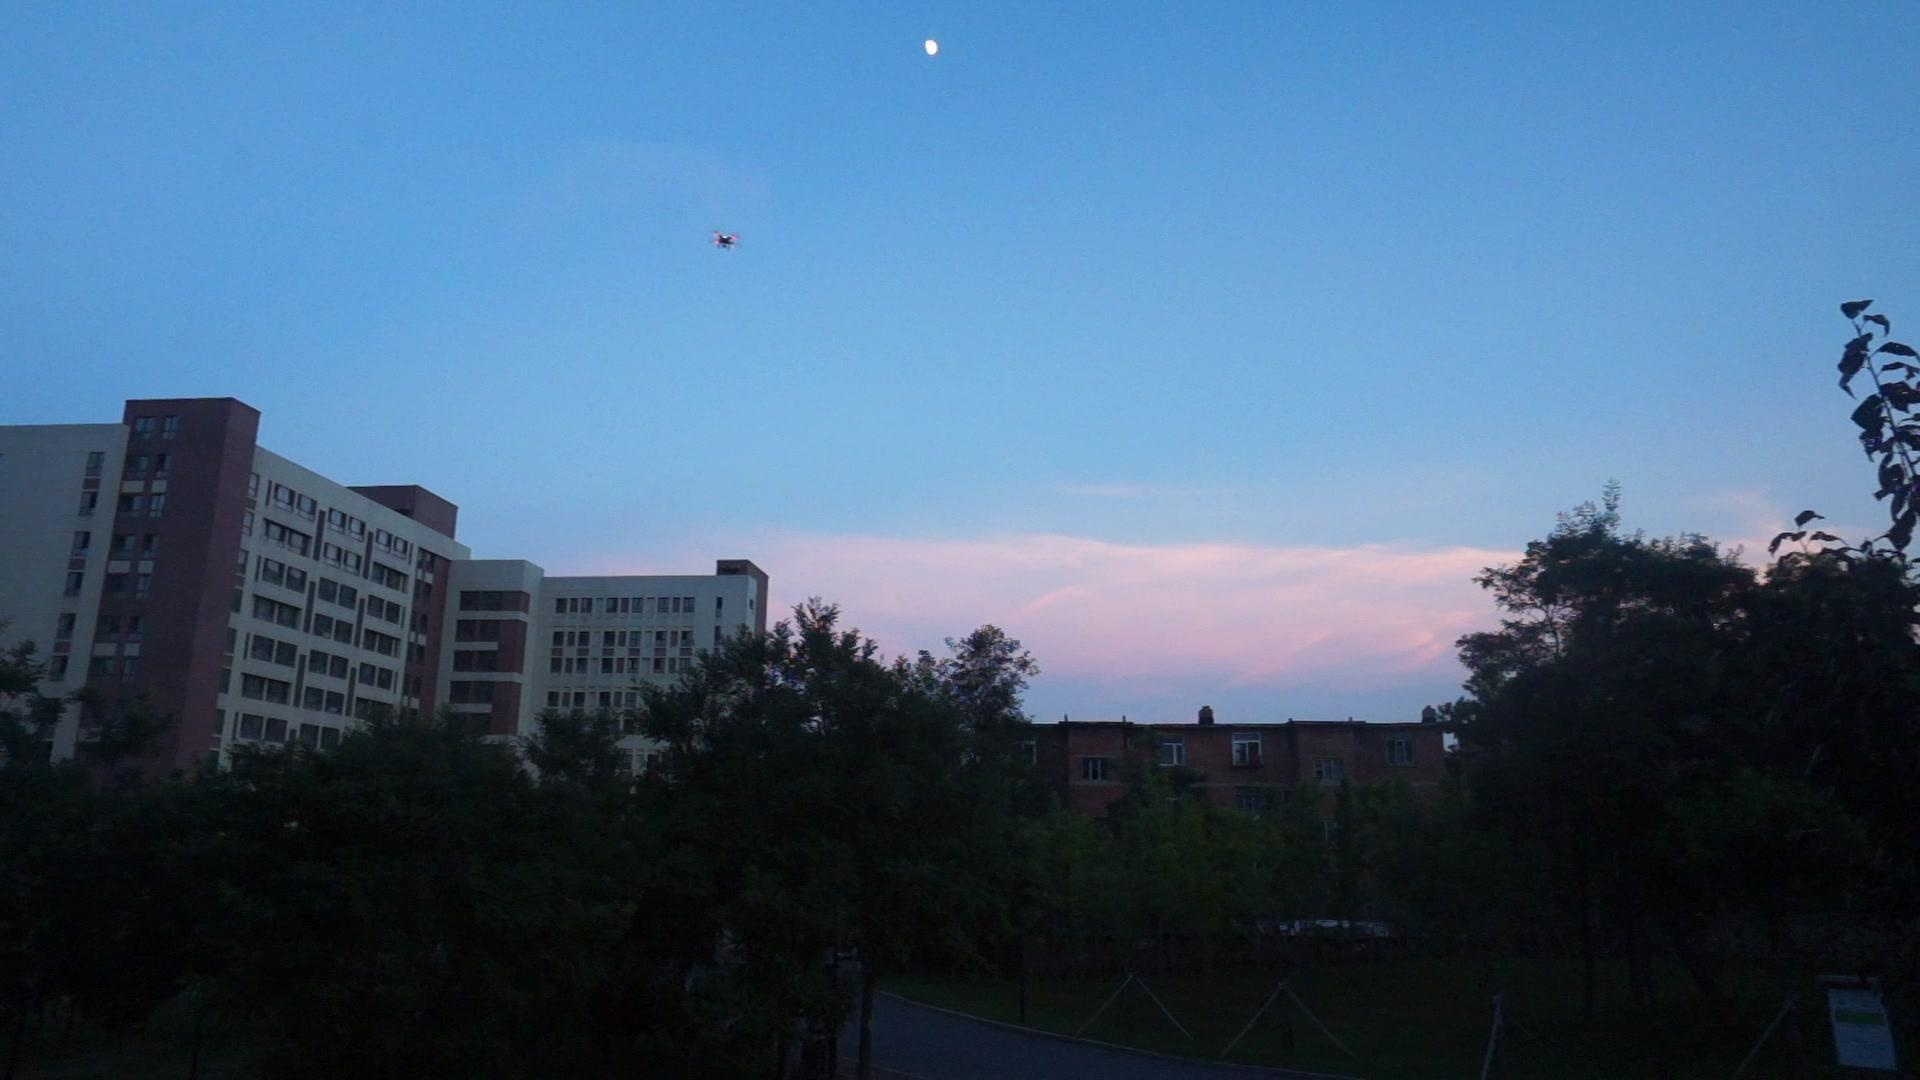UAV: (709, 229, 744, 252)
